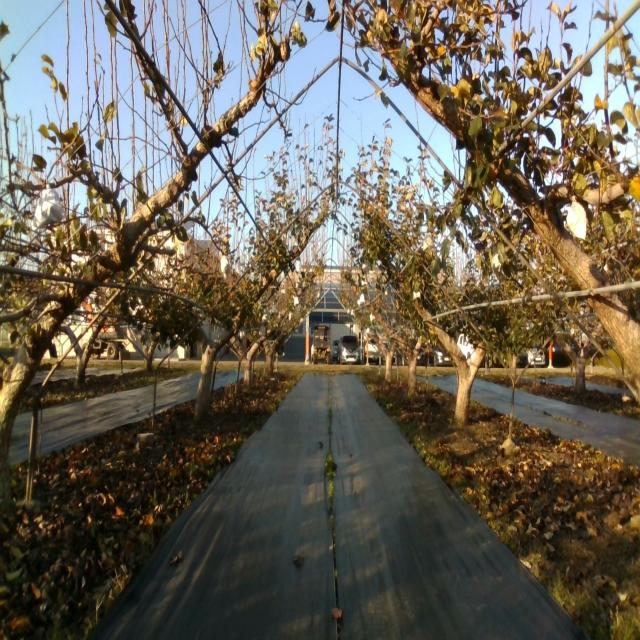pearbags: (29, 185, 64, 235), (566, 194, 587, 240), (491, 248, 503, 283), (422, 232, 436, 253), (220, 256, 231, 280)
